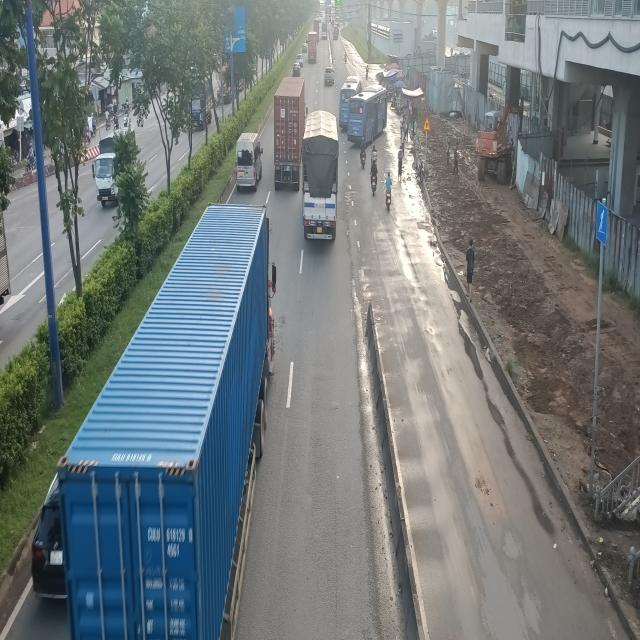coach: (345, 87, 388, 146), (338, 78, 360, 128)
container: (62, 206, 274, 634), (275, 76, 308, 191)
truck: (303, 110, 342, 242)
van: (235, 134, 264, 193)
